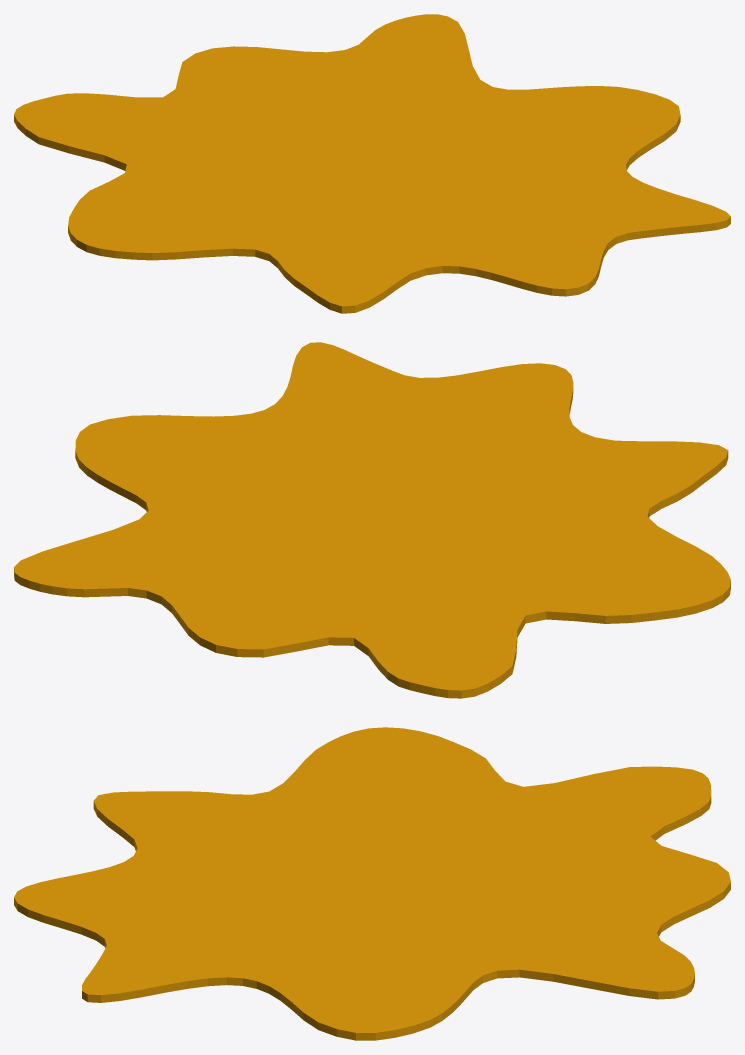
File: mustard.FBX
3 renders of one model, top to bottom at view 1: azimuth 30°, elevation 25°; view 2: azimuth 150°, elevation 25°; view 3: azimuth 270°, elevation 25°, orthographic. The views are drawn at different scales.
Visible parts, largest first — view 1: Mustard; view 2: Mustard; view 3: Mustard.
Part boxes in pixels (x1,y1,x2,y2): Mustard: (14,14,730,313); Mustard: (14,342,730,698); Mustard: (14,727,730,1040).
Bounding box in the file's own units: 0.00106 × 1.26e-05 × 0.00105.
